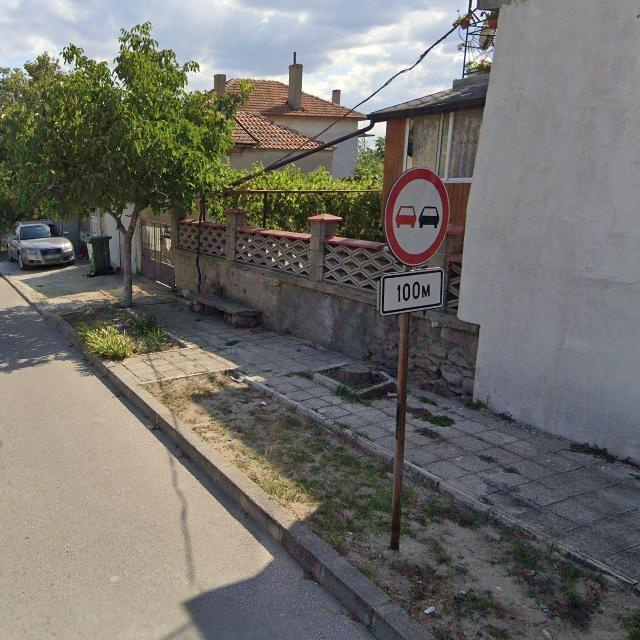forb_overtake: (384, 166, 452, 267)
